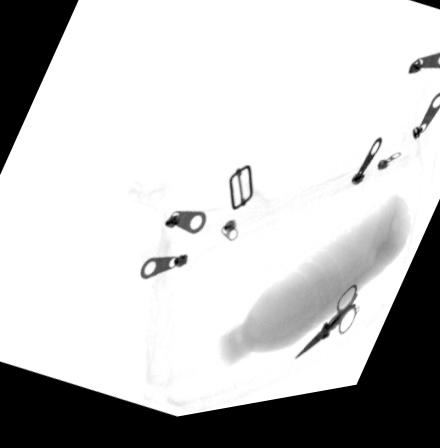Scissors: (293, 295, 359, 370)
